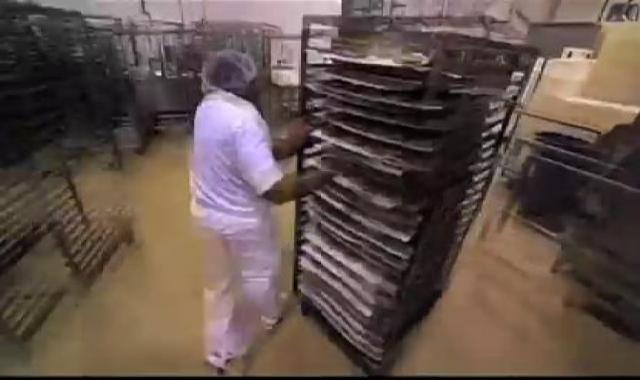hairnet: (193, 46, 269, 93)
